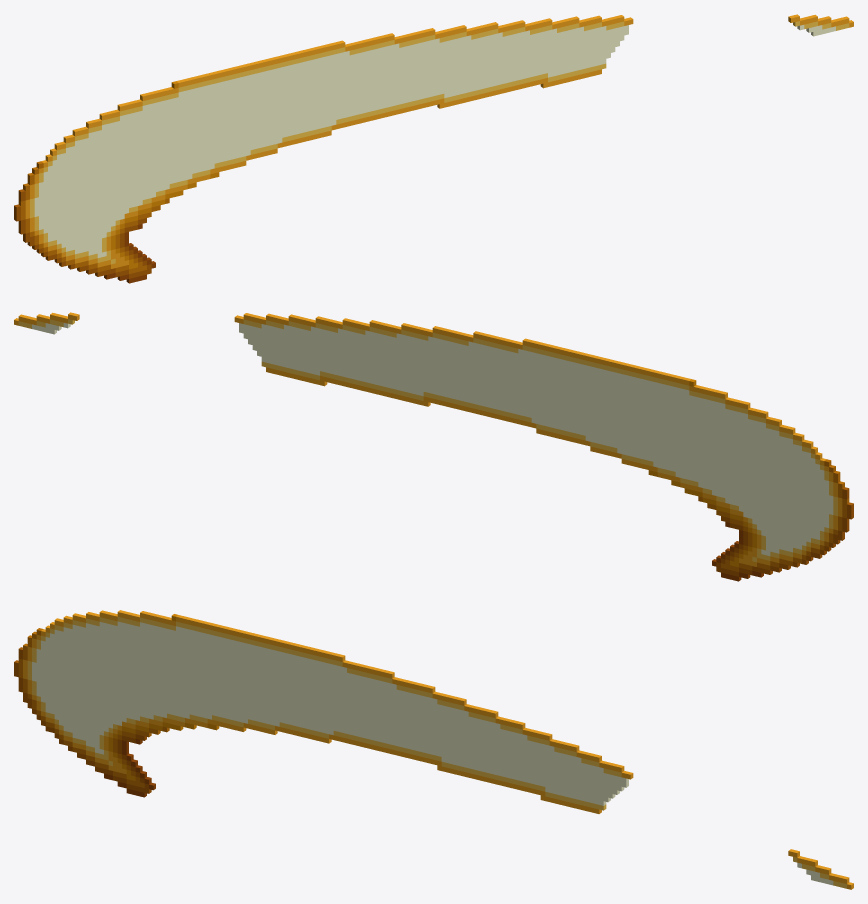
File: Fight_115_2_12_fx.obj
The picture shows the model from 3 angles, top to bottom: view 1: azimuth 30°, elevation 25°; view 2: azimuth 150°, elevation 25°; view 3: azimuth 330°, elevation 25°; orthographic projection.
Bounding box in the file's own units: 18.6 × 4 × 0.1.
Materials: 1 (1 with a texture image).
